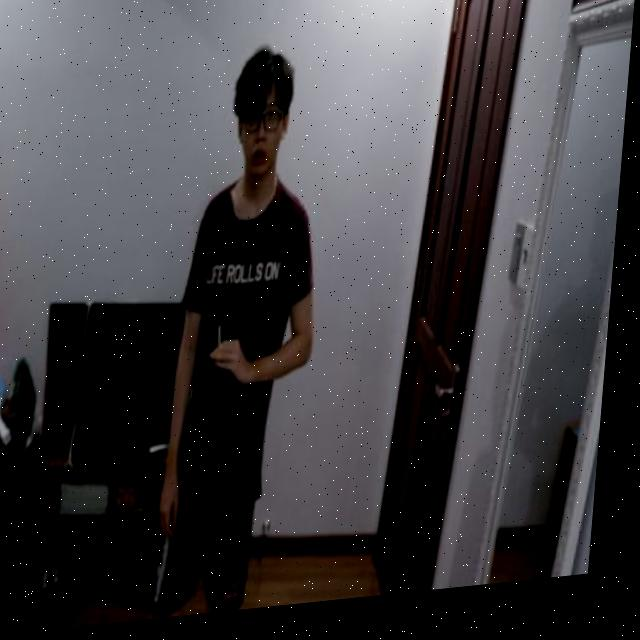cigarette: (221, 329, 229, 353)
